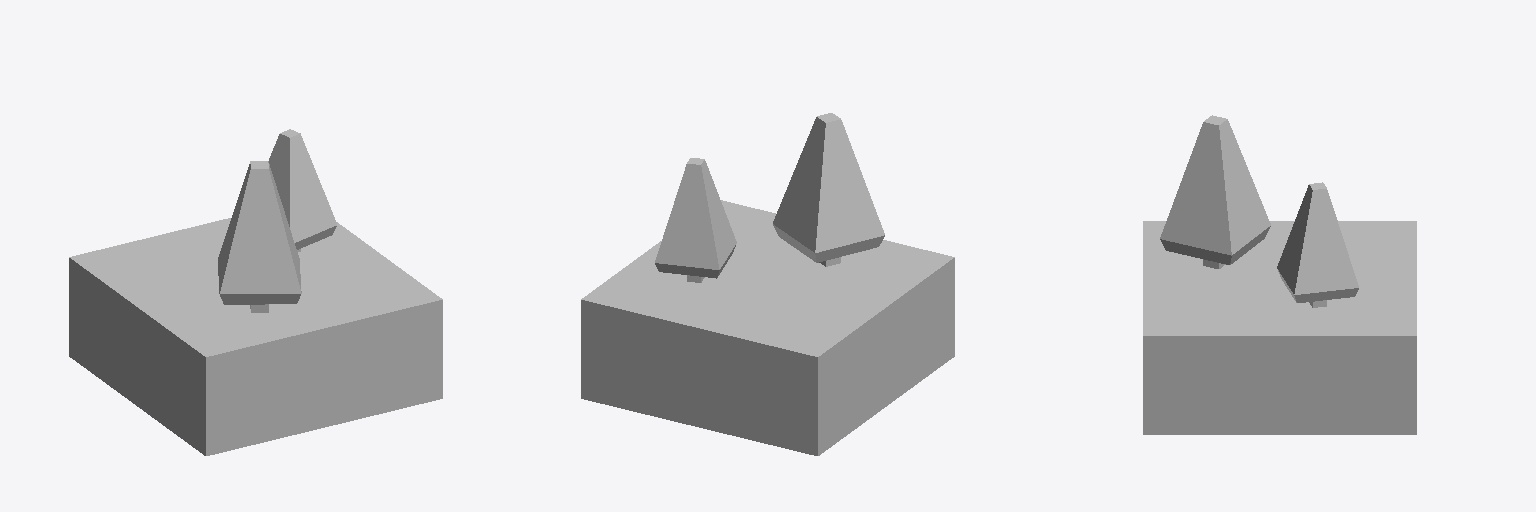
The model's file is tile_066.obj.
3 views of the same model, side by side, from view 1: azimuth 30°, elevation 25°; view 2: azimuth 150°, elevation 25°; view 3: azimuth 270°, elevation 25° (orthographic).
Parts seen in each view (by area): view 1: tile_066, Component#2; view 2: tile_066, Component#2; view 3: tile_066, Component#2.
Boxes of the visible parts, x1,y1,x2,y2 form: tile_066: [69, 218, 442, 455]; Component#2: [218, 129, 336, 312]; tile_066: [581, 200, 954, 455]; Component#2: [655, 113, 884, 282]; tile_066: [1143, 221, 1416, 434]; Component#2: [1160, 115, 1358, 307].
Bounding box in the file's own units: 1 × 0.9802 × 1.